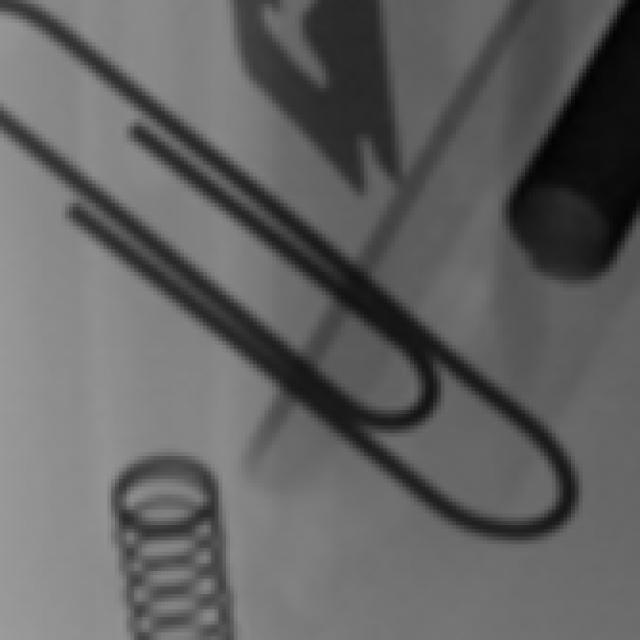BLADE: (221, 1, 450, 212)
